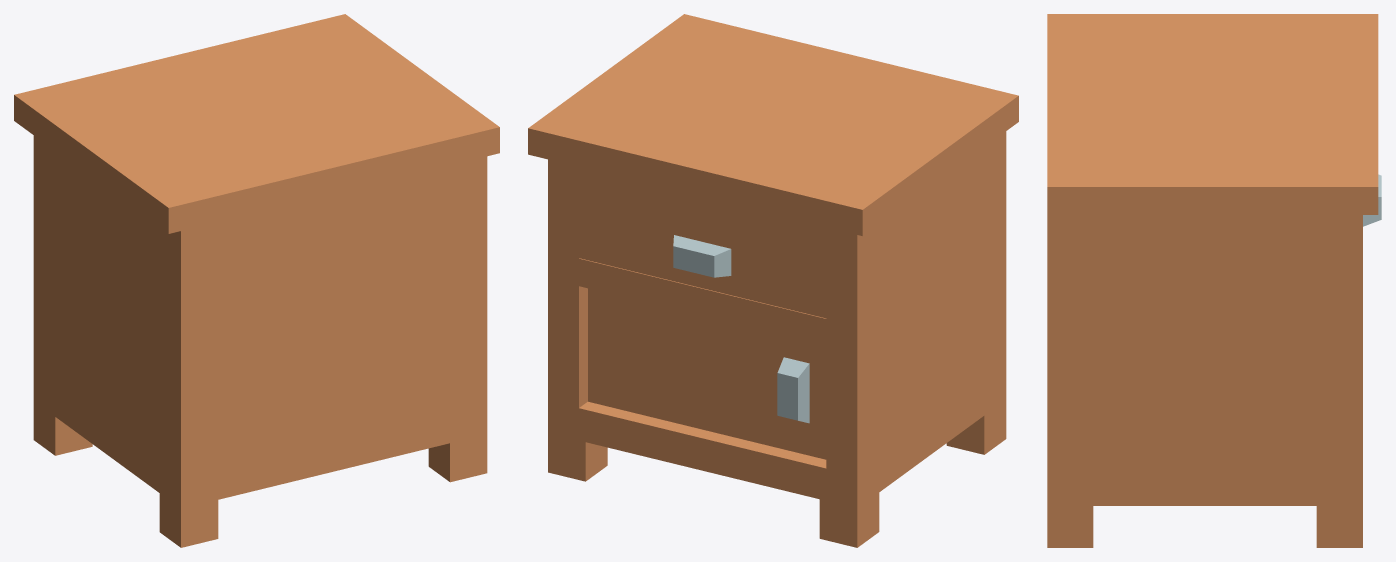
Rendered from Bed_Cabin_Drawer.fbx.
3 views of the same model, side by side, from view 1: azimuth 30°, elevation 25°; view 2: azimuth 150°, elevation 25°; view 3: azimuth 270°, elevation 25° (orthographic). The views are drawn at different scales.
Parts seen in each view (by area): view 1: cabinetBedDrawer; view 2: cabinetBedDrawer; view 3: cabinetBedDrawer.
Boxes of the visible parts, box(x1,y1,x2,y2) form: cabinetBedDrawer: box(14, 14, 499, 547); cabinetBedDrawer: box(528, 14, 1018, 547); cabinetBedDrawer: box(1047, 14, 1381, 547).
Size of the model in its own units: 26.6 by 26.32 by 21.73.
